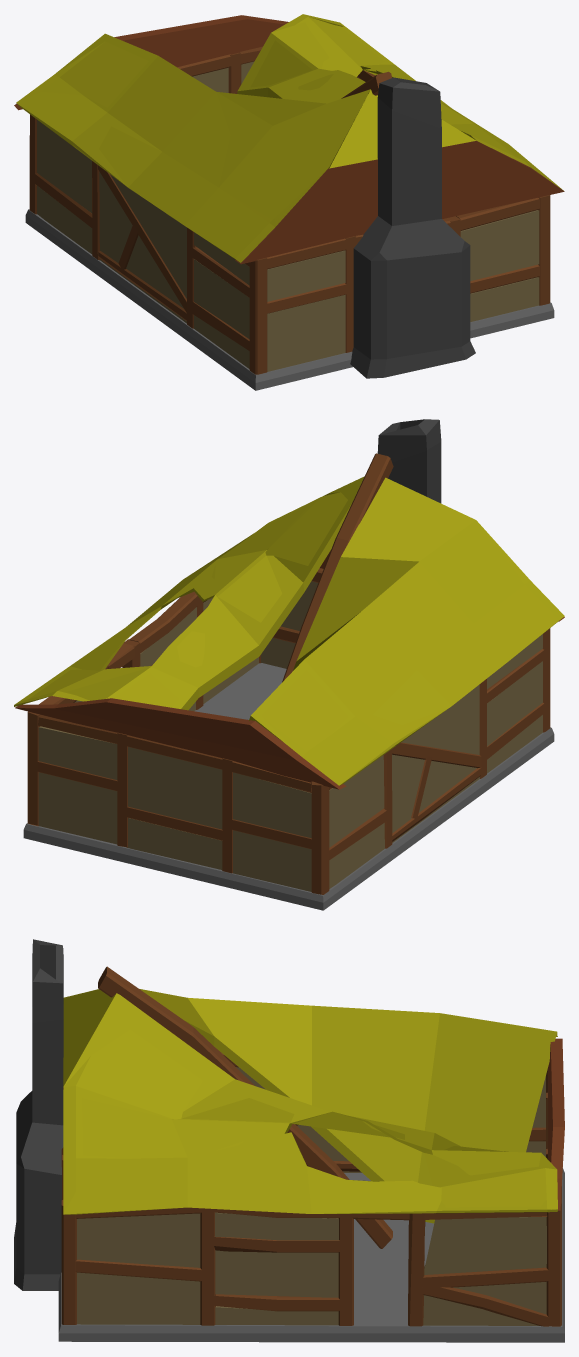
Rendered from House_broken.fbx.
The picture shows the model from 3 angles, top to bottom: view 1: azimuth 30°, elevation 25°; view 2: azimuth 150°, elevation 25°; view 3: azimuth 270°, elevation 25°; orthographic projection. The views are drawn at different scales.
Visible parts, largest first — view 1: Cube.004, Cube, Cube.002, Cube.003, Base, Cube.014, Cube.001, Cube.024, Cube.027, Cube.005, Cube.026, Cube.030 (+23 smaller); view 2: Cube.004, Cube.003, Base, Cube.001, Cube.014, Cube.020, Cube.025, Cube, Cube.022, Cube.023, BalkenF.040, Cube.005 (+28 smaller); view 3: Cube.003, Cube.004, Base, Cube, Cube.012, Cube.006, Cube.007, Cube.011, BalkenF.040, Cube.013, Cube.010, Cube.030 (+16 smaller).
Part boxes in pixels (<box>): Cube.004: <box>16,33,370,262</box>; Cube: <box>350,77,475,378</box>; Cube.002: <box>235,141,564,264</box>; Cube.003: <box>237,14,563,190</box>; Base: <box>25,209,554,390</box>; Cube.014: <box>99,172,186,308</box>; Cube.001: <box>14,15,288,110</box>; Cube.024: <box>267,294,345,371</box>; Cube.027: <box>460,210,539,280</box>; Cube.005: <box>37,120,92,213</box>; Cube.026: <box>267,250,345,301</box>; Cube.030: <box>329,89,475,168</box>; Cube.004: <box>249,477,564,785</box>; Cube.003: <box>14,476,364,710</box>; Base: <box>23,663,554,910</box>; Cube.001: <box>15,698,346,789</box>; Cube.014: <box>392,684,479,832</box>; Cube.020: <box>128,747,222,829</box>; Cube.025: <box>38,772,117,844</box>; Cube: <box>377,419,441,503</box>; Cube.022: <box>233,772,311,838</box>; Cube.023: <box>233,830,311,891</box>; BalkenF.040: <box>282,453,393,682</box>; Cube.005: <box>329,755,384,847</box>; Cube.003: <box>63,993,557,1214</box>; Cube.004: <box>63,989,557,1223</box>; Base: <box>58,1168,564,1342</box>; Cube: <box>14,939,63,1290</box>; Cube.012: <box>424,1217,546,1274</box>; Cube.006: <box>77,1213,200,1267</box>; Cube.007: <box>77,1272,200,1324</box>; Cube.011: <box>215,1250,338,1297</box>; BalkenF.040: <box>98,966,392,1248</box>; Cube.013: <box>423,1282,546,1325</box>; Cube.010: <box>215,1212,338,1240</box>; Cube.030: <box>63,989,115,1086</box>.
Bounding box in the file's own units: 656 × 542 × 871.
